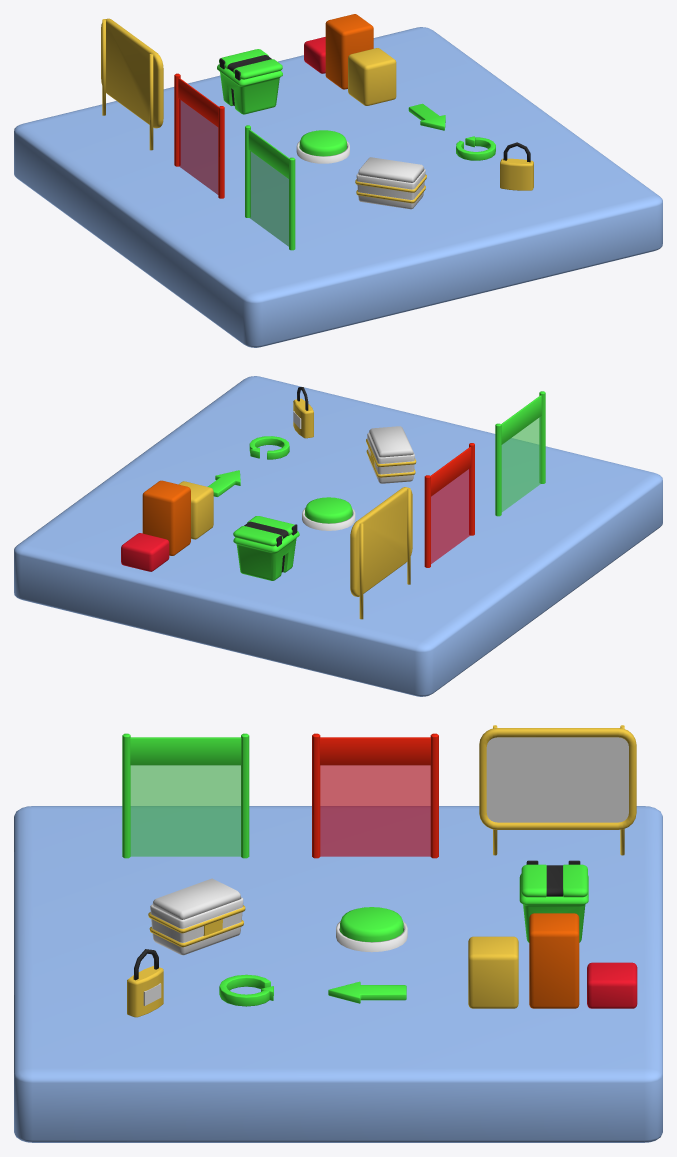
The picture shows the model from 3 angles, top to bottom: view 1: azimuth 30°, elevation 25°; view 2: azimuth 150°, elevation 25°; view 3: azimuth 270°, elevation 25°; orthographic projection. The views are drawn at different scales.
Parts seen in each view (by area): view 1: PlatformBG, Sign, green-door-mid, green-door-mid.001, Platform02, Platform01, Bin, chest-base, green-door-edge.001, BinCap, chest-cover, green-door-edge (+8 smaller); view 2: PlatformBG, Sign, Platform01, green-door-mid.001, green-door-mid, Bin, Platform03, chest-base, green-door-edge, Platform02, BinCap, green-door-edge.001 (+8 smaller); view 3: PlatformBG, Sign, green-door-mid.001, green-door-mid, Platform01, Platform02, chest-base, green-door-sign, green-door-sign.001, Platform03, green-door-edge, BinCap (+8 smaller).
Part boxes in pixels (x1=…): PlatformBG: x1=14, y1=27, x2=662, y2=347; Sign: x1=101, y1=18, x2=163, y2=150; green-door-mid: x1=249, y1=151, x2=288, y2=246; green-door-mid.001: x1=179, y1=99, x2=218, y2=194; Platform02: x1=348, y1=48, x2=396, y2=105; Platform01: x1=325, y1=14, x2=373, y2=89; Bin: x1=217, y1=58, x2=282, y2=114; chest-base: x1=355, y1=169, x2=426, y2=209; green-door-edge.001: x1=174, y1=73, x2=224, y2=198; BinCap: x1=219, y1=49, x2=282, y2=79; chest-cover: x1=358, y1=157, x2=424, y2=182; green-door-edge: x1=245, y1=125, x2=295, y2=250; PlatformBG: x1=14, y1=376, x2=662, y2=696; Sign: x1=350, y1=487, x2=412, y2=619; Platform01: x1=142, y1=480, x2=190, y2=555; green-door-mid.001: x1=431, y1=468, x2=470, y2=563; green-door-mid: x1=501, y1=416, x2=540, y2=511; Bin: x1=233, y1=524, x2=299, y2=580; Platform03: x1=121, y1=533, x2=169, y2=571; chest-base: x1=366, y1=432, x2=416, y2=483; green-door-edge: x1=495, y1=391, x2=545, y2=516; Platform02: x1=178, y1=481, x2=213, y2=539; BinCap: x1=233, y1=516, x2=294, y2=546; green-door-edge.001: x1=424, y1=443, x2=474, y2=567; PlatformBG: x1=14, y1=806, x2=662, y2=1142; Sign: x1=479, y1=725, x2=636, y2=855; green-door-mid.001: x1=320, y1=765, x2=430, y2=856; green-door-mid: x1=130, y1=765, x2=240, y2=856; Platform01: x1=529, y1=913, x2=579, y2=1008; Platform02: x1=468, y1=936, x2=518, y2=1008; chest-base: x1=148, y1=897, x2=245, y2=955; green-door-sign: x1=130, y1=737, x2=241, y2=765; green-door-sign.001: x1=320, y1=737, x2=430, y2=765; Platform03: x1=587, y1=962, x2=637, y2=1008; green-door-edge: x1=122, y1=733, x2=249, y2=858; BinCap: x1=521, y1=864, x2=587, y2=897.
Size of the model in its own units: 1650 by 560 by 1650.
